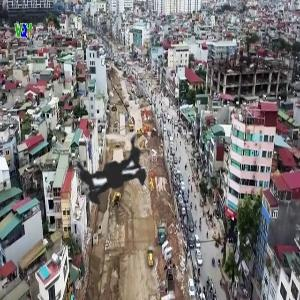drone: (12, 65, 234, 287)
